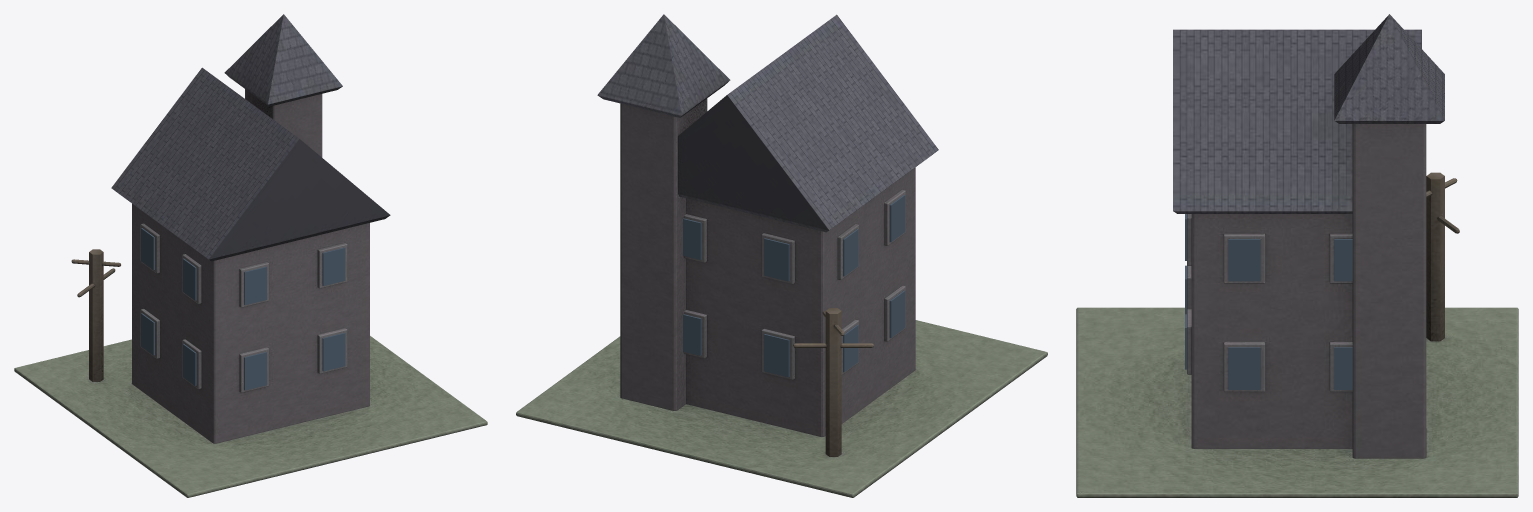
Rendered from spukhaus.glb.
3 renders of one model, left to right at view 1: azimuth 30°, elevation 25°; view 2: azimuth 150°, elevation 25°; view 3: azimuth 270°, elevation 25°, orthographic. The views are drawn at different scales.
Visible parts, largest first — view 1: spukhaus, spukhaus_details; view 2: spukhaus, spukhaus_details; view 3: spukhaus, spukhaus_details.
Part boxes in pixels (box(x1,y1,x2,y2)): spukhaus: box(14, 14, 487, 497); spukhaus_details: box(141, 228, 345, 390); spukhaus: box(516, 14, 1047, 497); spukhaus_details: box(683, 195, 905, 377); spukhaus: box(1076, 14, 1518, 497); spukhaus_details: box(1185, 214, 1352, 389).
Bounding box in the file's own units: 0.96 × 1.04 × 0.96.
Materials: 2 (1 with a texture image).
